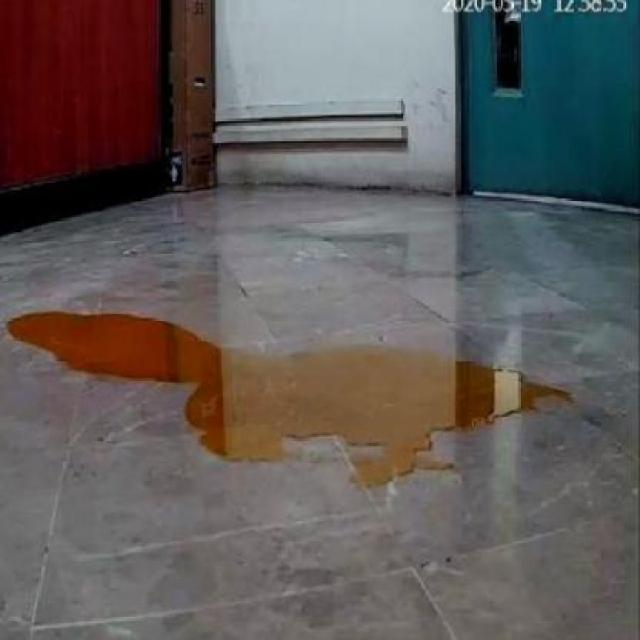spillage: (7, 313, 522, 485)
